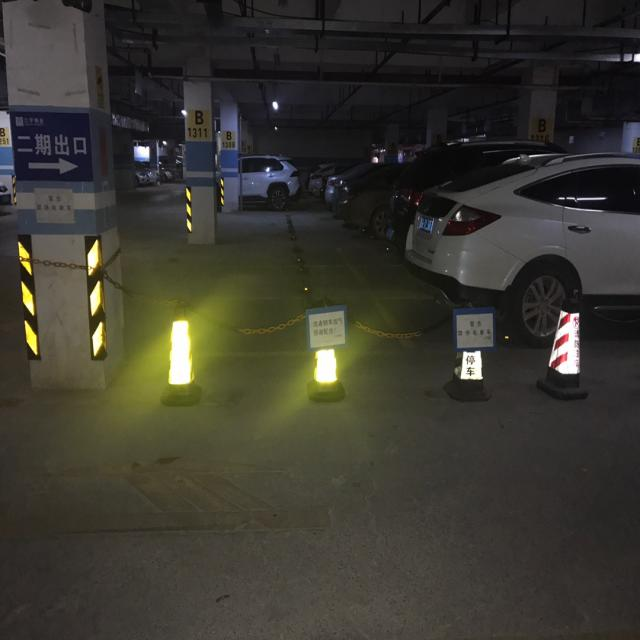car: (404, 149, 636, 348), (239, 152, 299, 211)
reflective_cone: (534, 289, 590, 401), (155, 299, 201, 407), (448, 348, 492, 402), (307, 347, 345, 401)
